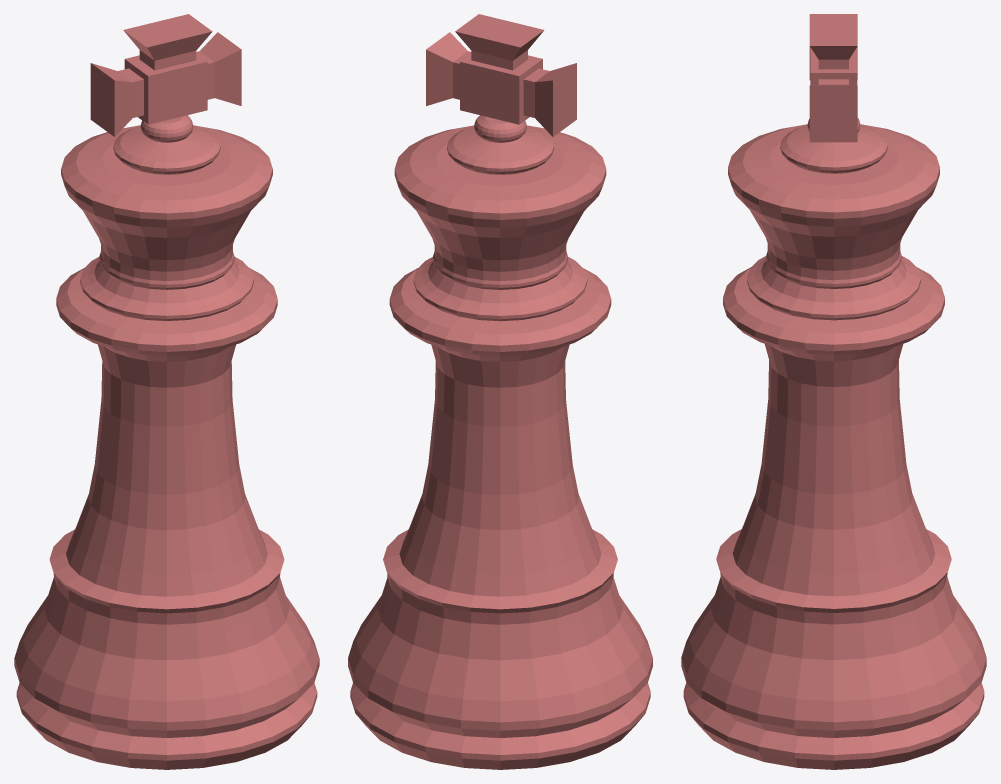
The model's file is king0.obj.
3 renders of one model, left to right at view 1: azimuth 30°, elevation 25°; view 2: azimuth 150°, elevation 25°; view 3: azimuth 270°, elevation 25°, orthographic.
Parts seen in each view (by area): view 1: SketchUp_ID2, SketchUp.001_ID10, SketchUp.002_ID16, SketchUp.005_ID34, SketchUp.003_ID22, SketchUp.004_ID28; view 2: SketchUp_ID2, SketchUp.001_ID10, SketchUp.002_ID16, SketchUp.005_ID34, SketchUp.003_ID22, SketchUp.004_ID28; view 3: SketchUp_ID2, SketchUp.001_ID10, SketchUp.004_ID28, SketchUp.005_ID34, SketchUp.002_ID16.
Part boxes in pixels (left/top/right/bottom): SketchUp_ID2: left=14, top=125, right=319, bottom=769; SketchUp.001_ID10: left=113, top=115, right=220, bottom=174; SketchUp.002_ID16: left=124, top=53, right=207, bottom=124; SketchUp.005_ID34: left=123, top=14, right=212, bottom=70; SketchUp.003_ID22: left=90, top=63, right=143, bottom=136; SketchUp.004_ID28: left=196, top=32, right=241, bottom=105; SketchUp_ID2: left=348, top=125, right=652, bottom=769; SketchUp.001_ID10: left=447, top=115, right=553, bottom=174; SketchUp.002_ID16: left=460, top=53, right=542, bottom=124; SketchUp.005_ID34: left=455, top=14, right=544, bottom=70; SketchUp.003_ID22: left=523, top=63, right=576, bottom=136; SketchUp.004_ID28: left=426, top=32, right=471, bottom=105; SketchUp_ID2: left=681, top=124, right=986, bottom=769; SketchUp.001_ID10: left=780, top=118, right=887, bottom=173; SketchUp.004_ID28: left=809, top=79, right=857, bottom=142; SketchUp.005_ID34: left=809, top=14, right=857, bottom=69; SketchUp.002_ID16: left=810, top=47, right=857, bottom=85.
Size of the model in its own units: 0.888 by 2.19 by 0.888.
